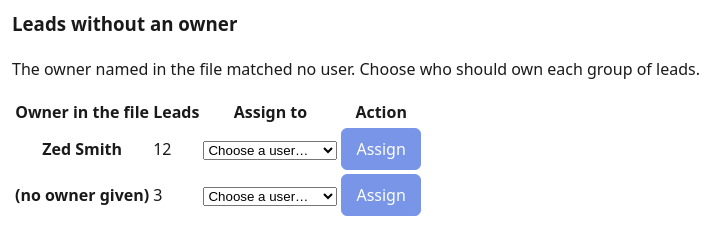
Scenario: UnmatchedOwnersPanel › assigns a group, shows the counts and reloads the list
Select "ann@example.test" in the dropdown named "Assign Zed Smith to" at (270,150), box [203,140,337,160]
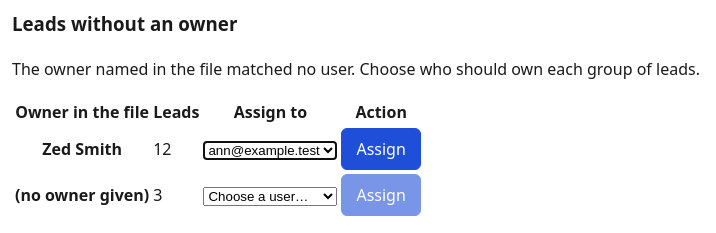
Click the button "Assign" in the row of "Zed Smith".
click(381, 148)  # box [341,128,421,170]
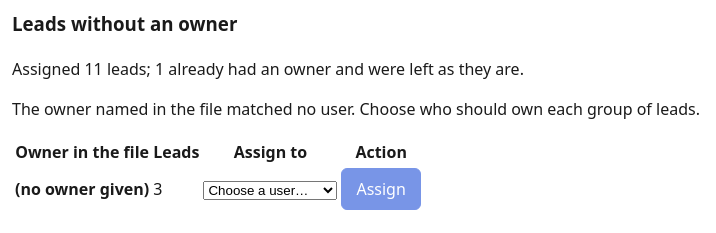
Now the message reads "Assigned 11 leads; 1 already had an owner and were left as they are.", box [12,58,524,80]
Now the column heading "Zed Smith" is gone
